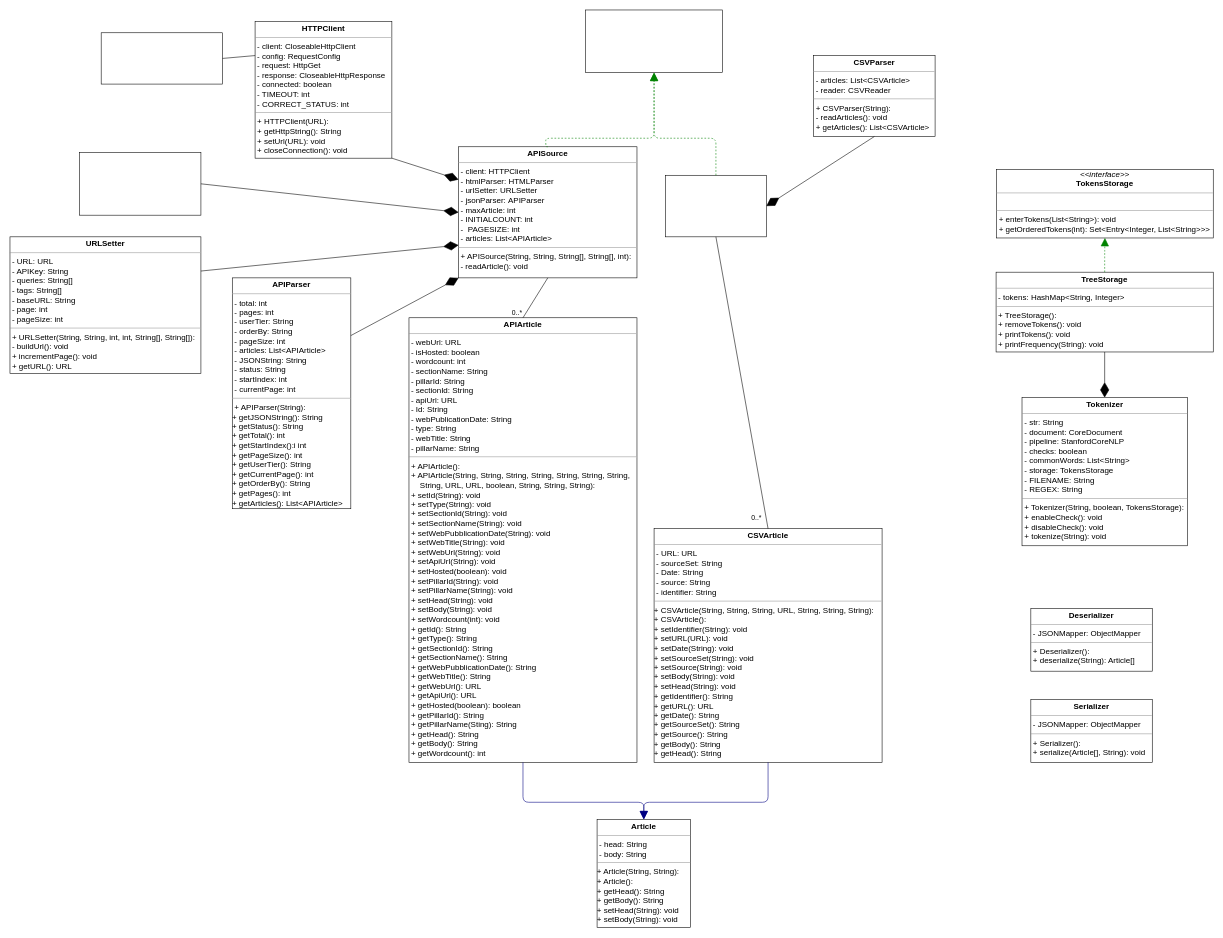
Image size: 1223x938. Some labels were removed from this diagram. Here are the shapes that lost their labels. From the top down, the centre of each, then its label:
the point at 162,58: ImpossibleConnection + ImpossibleConnection():
the point at 653,41: <<interface>> ArticleSource getArticles(): List<? extends Article>
the point at 140,183: HTMLParser + HTMLParser(): + parse(APIArticle): void
the point at 715,206: CSVSource - parser: CSVParser - articles: List<CSVArticle> + CSVSource(String):
